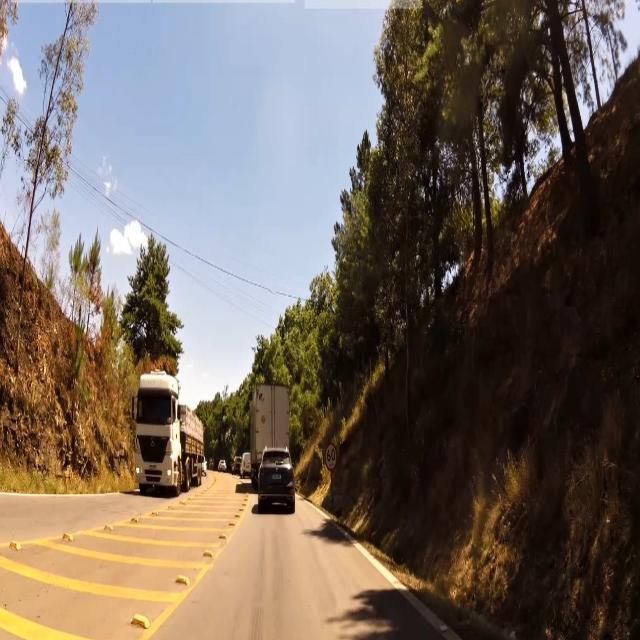R-19: (324, 440, 338, 473)
